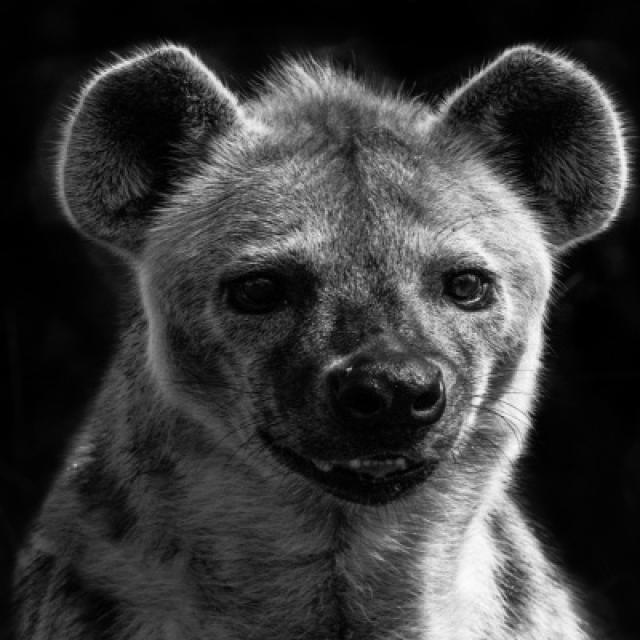hyena: (18, 42, 630, 638)
